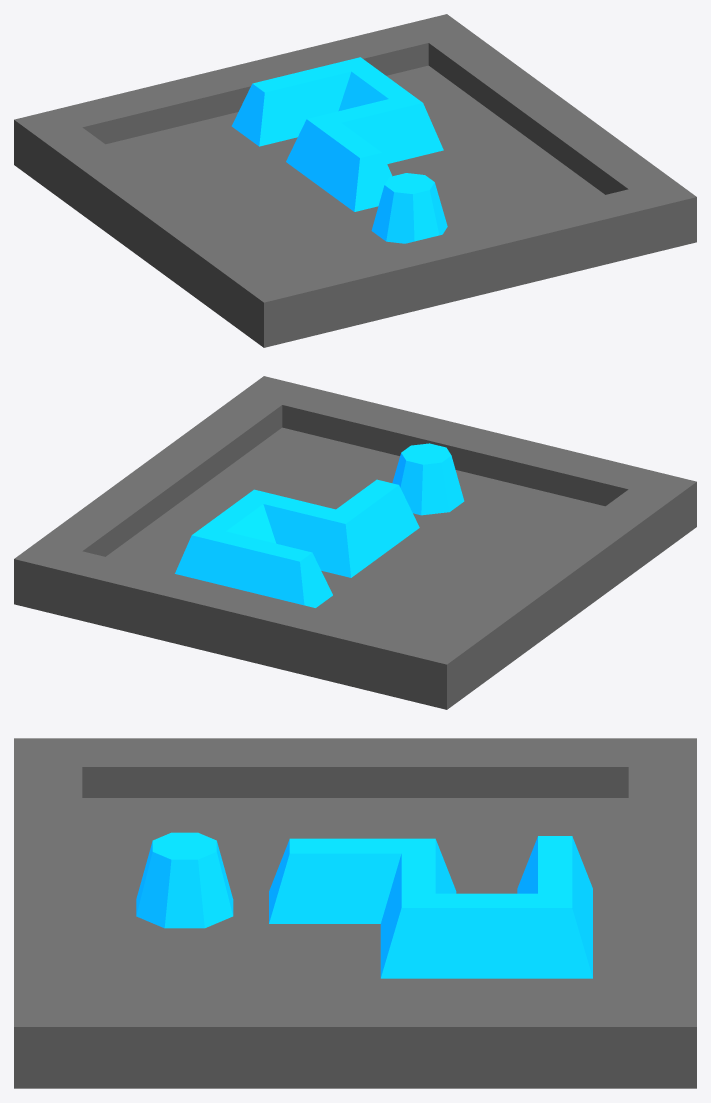
File: menuObjSettingsAbout.glb
The picture shows the model from 3 angles, top to bottom: view 1: azimuth 30°, elevation 25°; view 2: azimuth 150°, elevation 25°; view 3: azimuth 270°, elevation 25°; orthographic projection. The views are drawn at different scales.
Parts seen in each view (by area): view 1: Box, Cylinder; view 2: Box, Cylinder; view 3: Box, Cylinder.
Boxes of the visible parts, x1,y1,x2,y2 form: Box: [14, 14, 696, 347]; Cylinder: [231, 57, 447, 243]; Box: [14, 376, 696, 709]; Cylinder: [175, 443, 464, 607]; Box: [14, 738, 696, 1088]; Cylinder: [136, 832, 592, 978].
Size of the model in its own units: 2 by 0.3523 by 2.
